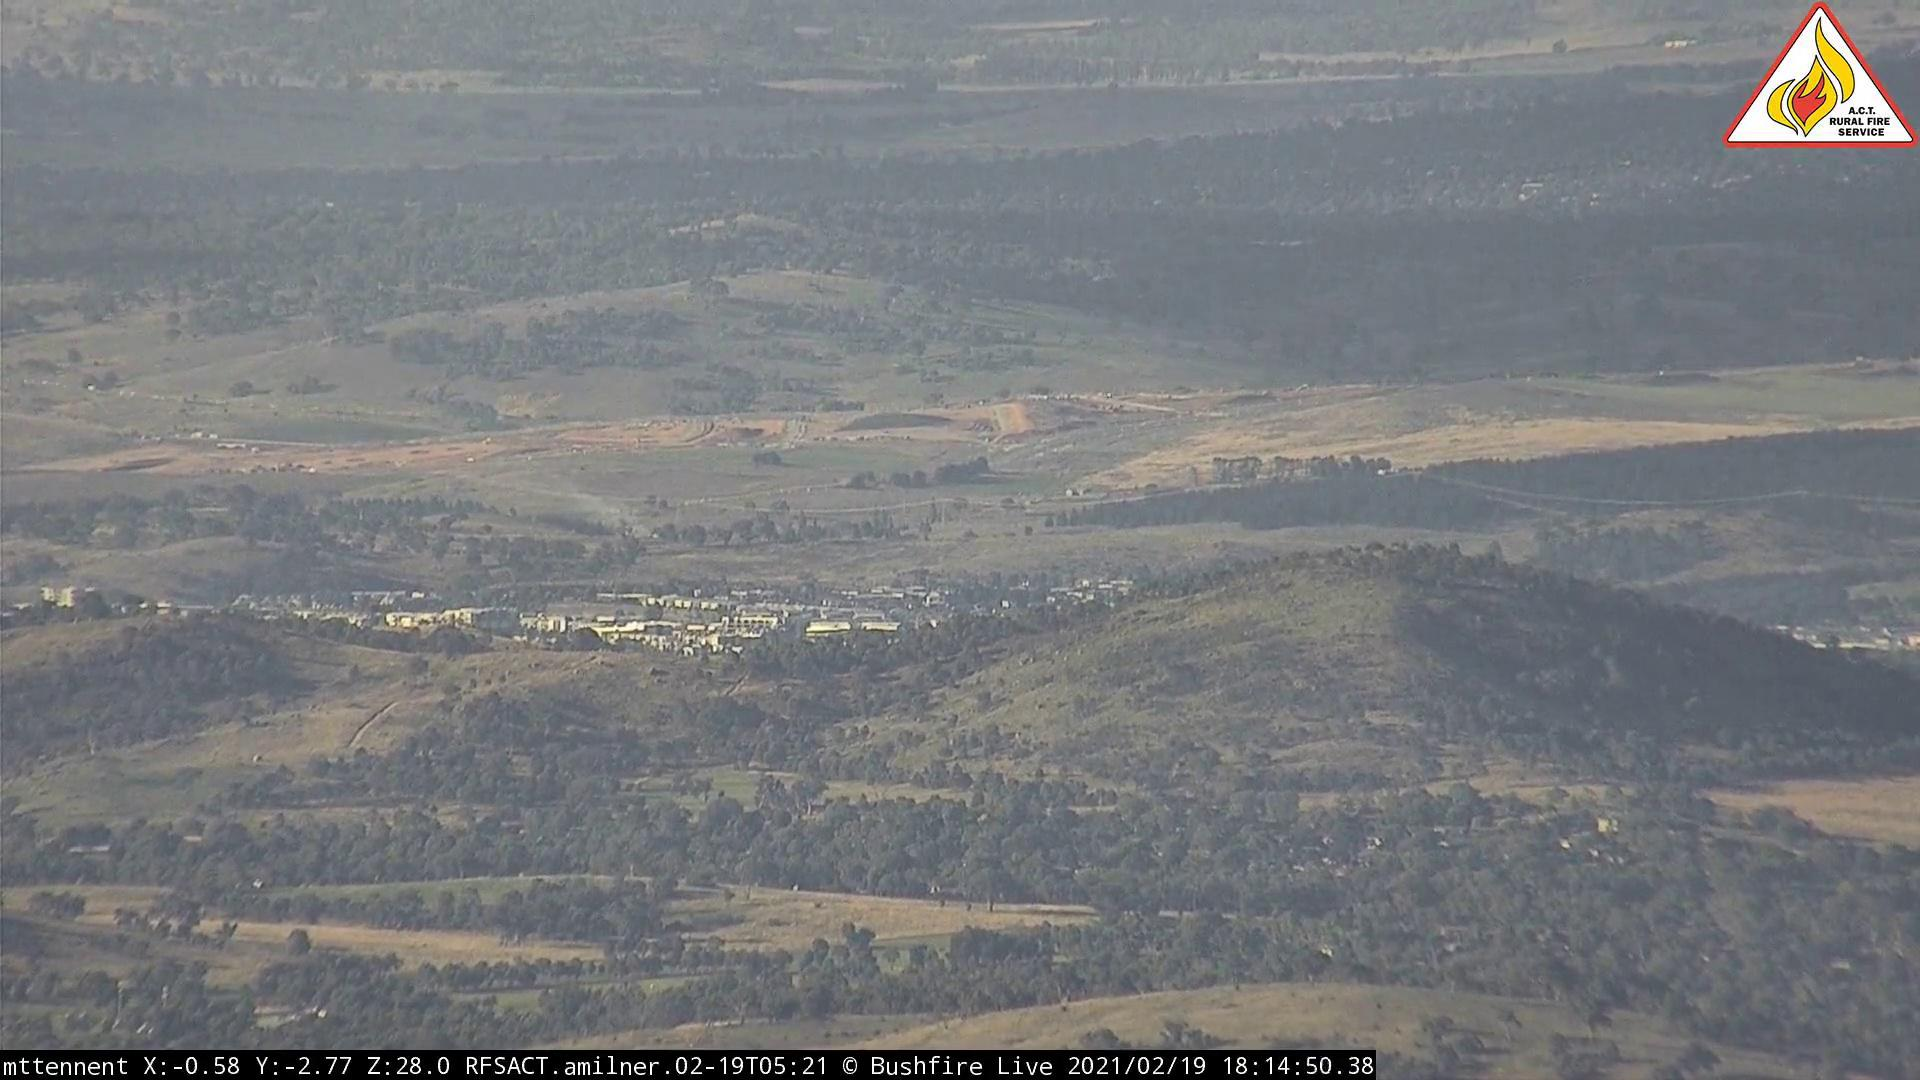instance_salient_object: (603, 512, 642, 537)
